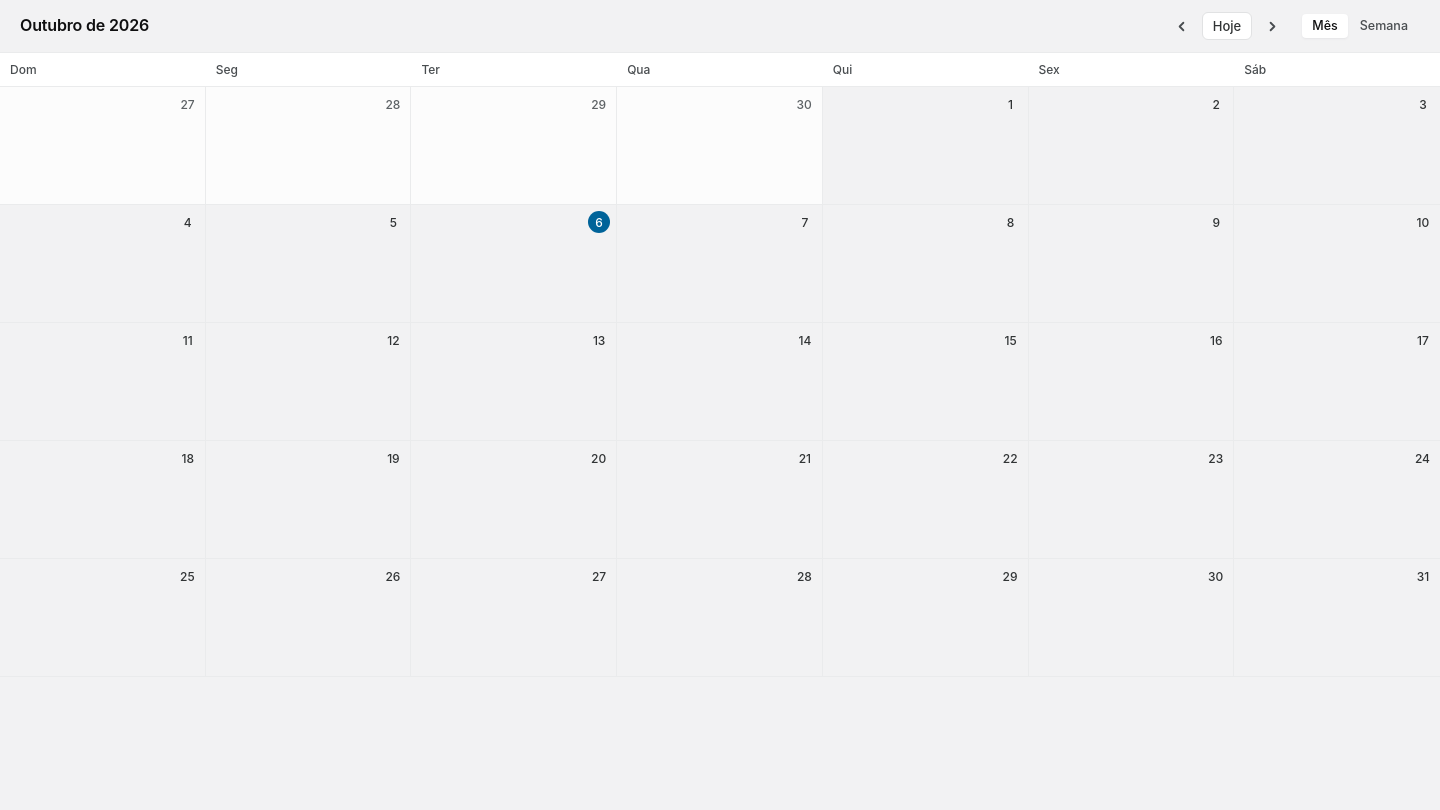
Test: work item layouts › owns all calendar headers and cells through seven-column rows in week mode
Click the button "Semana" at [1384, 26], box [1350,14,1418,38]
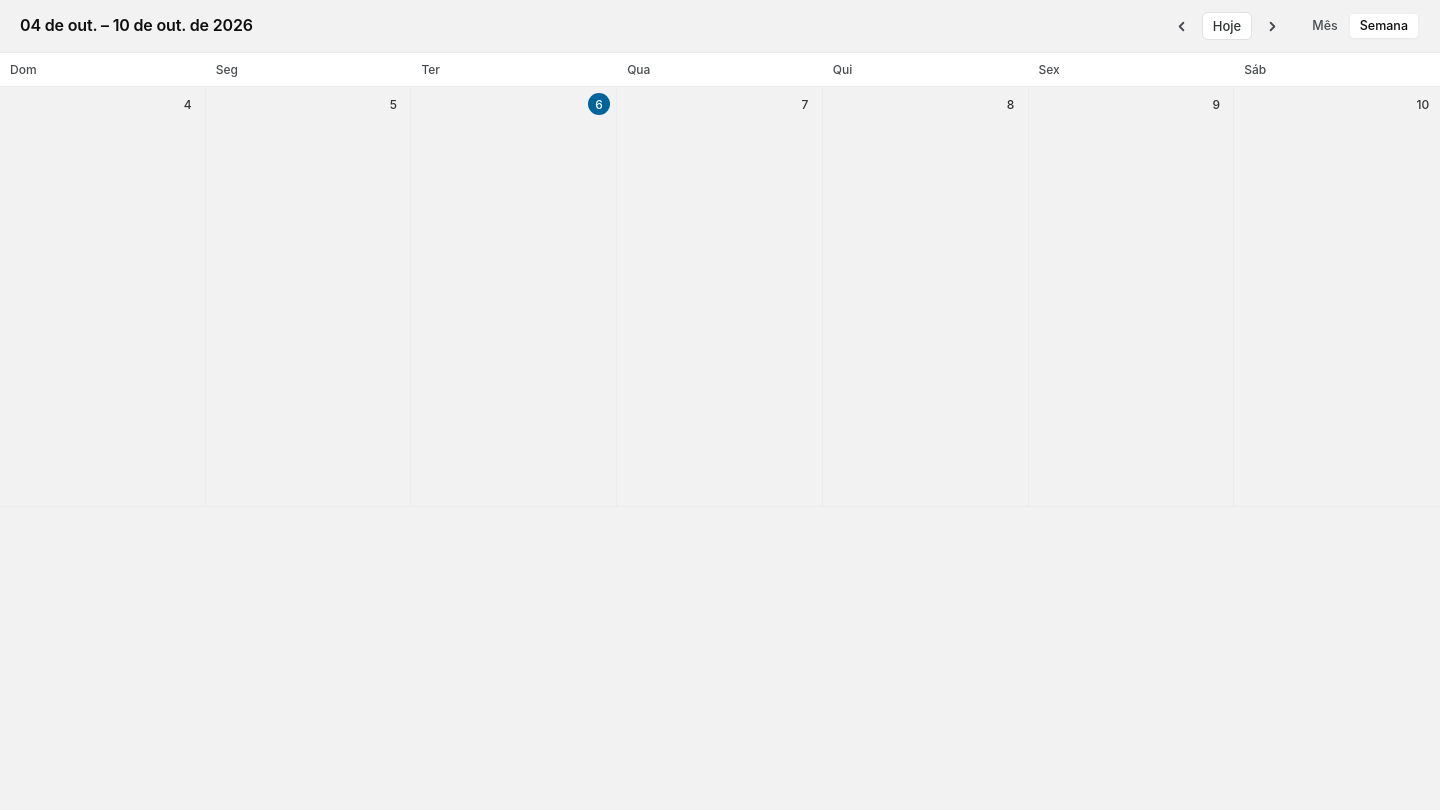
Check: the number of cells is 7
